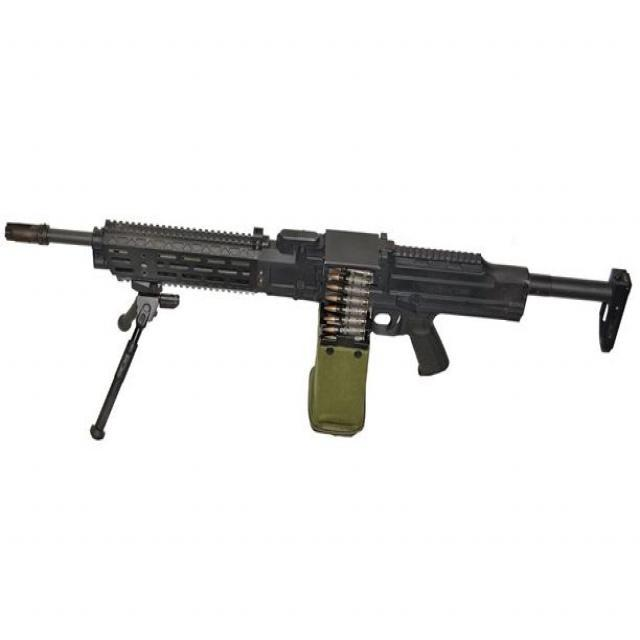weapon: (5, 219, 632, 442)
